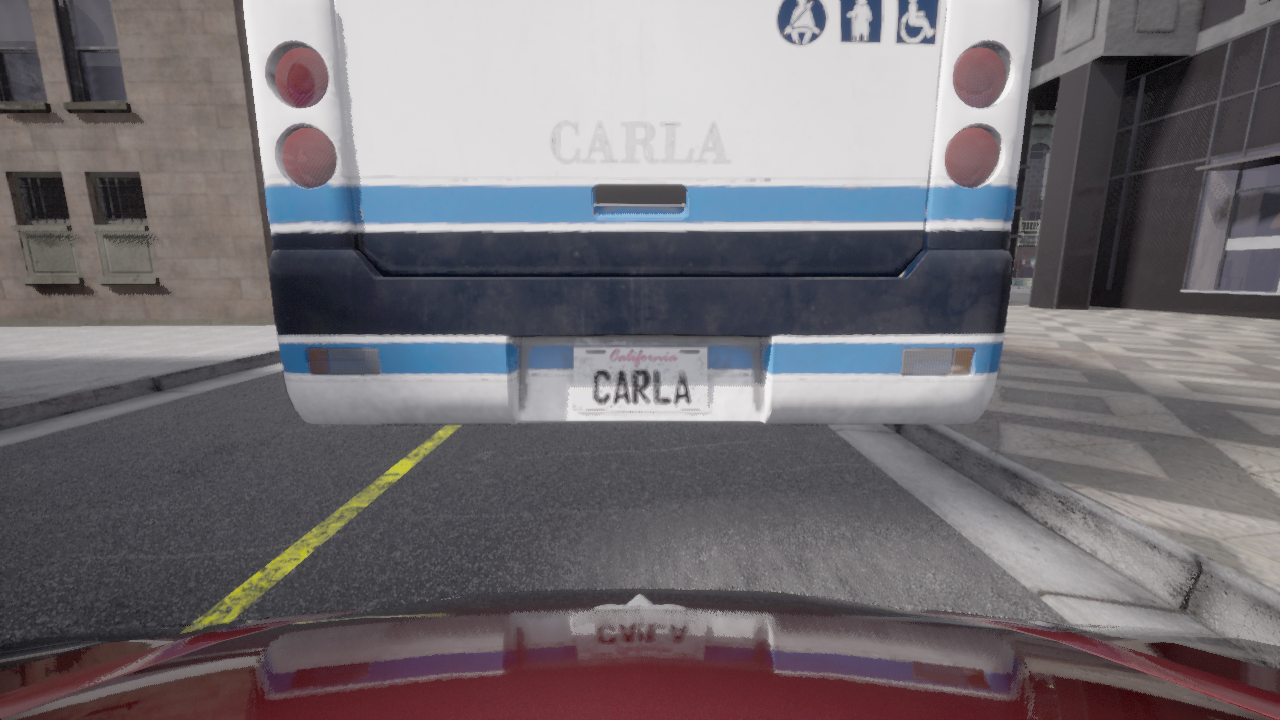cyclist: (243, 0, 1038, 424), (0, 588, 1279, 719)
